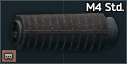AR-15 Colt M4 Carbine Length handguard: (0, 0, 127, 64)
